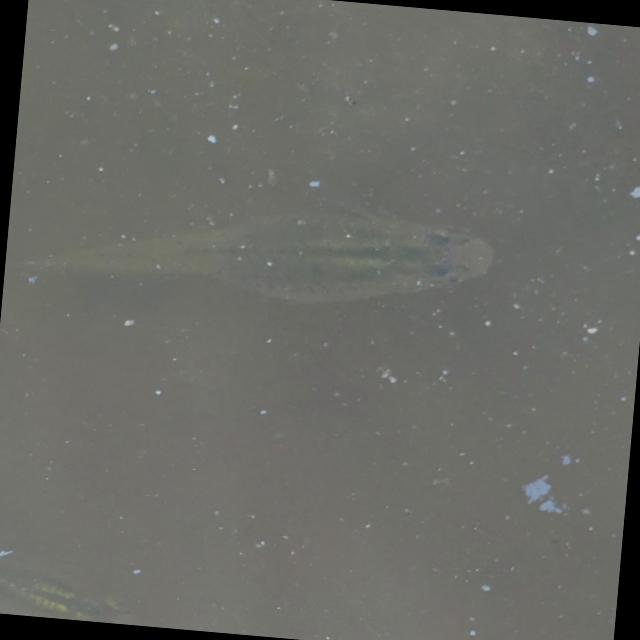Sivrisinek Baligi: (7, 182, 503, 321)
